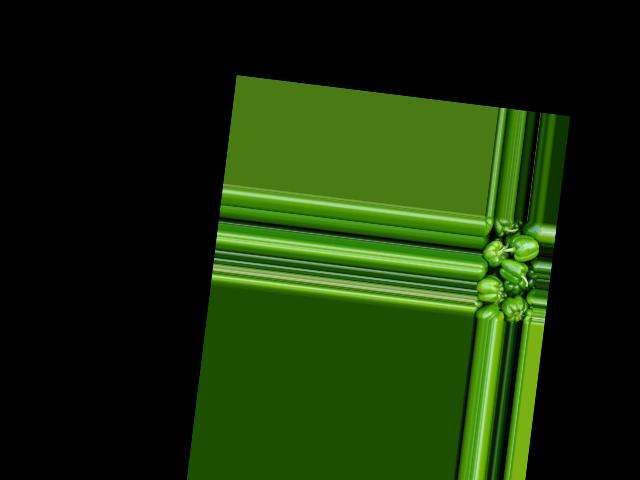bell_pepper: (521, 220, 543, 245)
